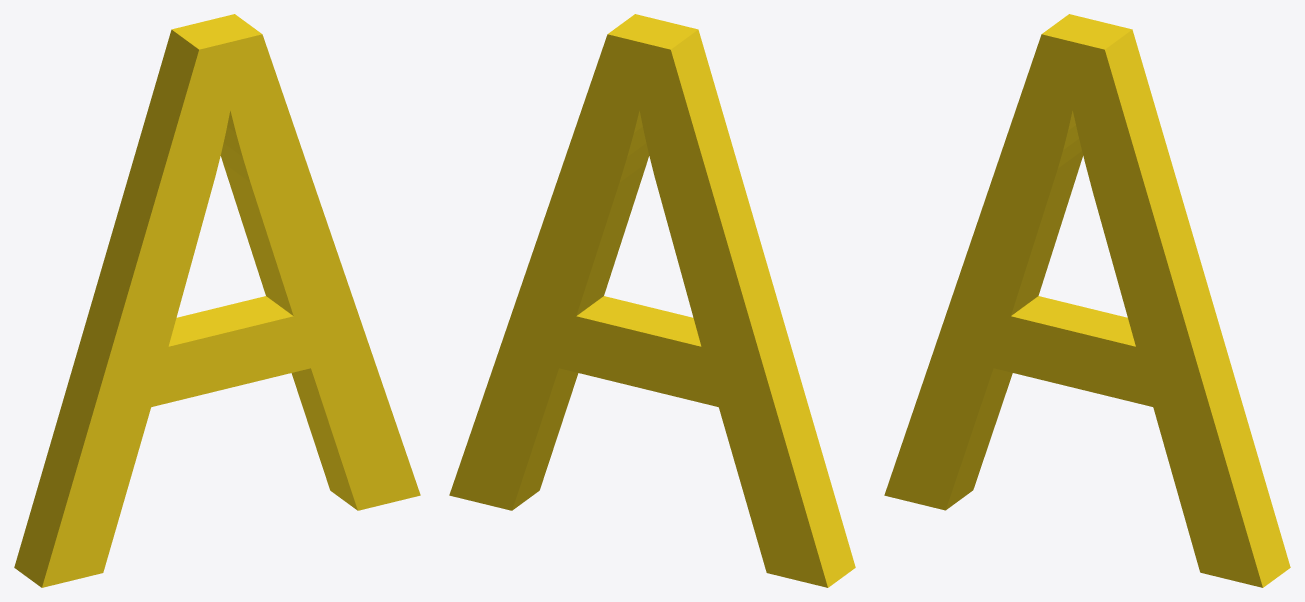
The model's file is tinker.obj.
3 views of the same model, side by side, from view 1: azimuth 30°, elevation 25°; view 2: azimuth 150°, elevation 25°; view 3: azimuth 330°, elevation 25° (orthographic).
Visible parts, largest first — view 1: obj_0; view 2: obj_0; view 3: obj_0.
Part boxes in pixels (bbox=[...]): obj_0: bbox=[14, 14, 420, 587]; obj_0: bbox=[449, 14, 855, 587]; obj_0: bbox=[884, 14, 1290, 587].
Size of the model in its own units: 15.8 by 19.92 by 2.
